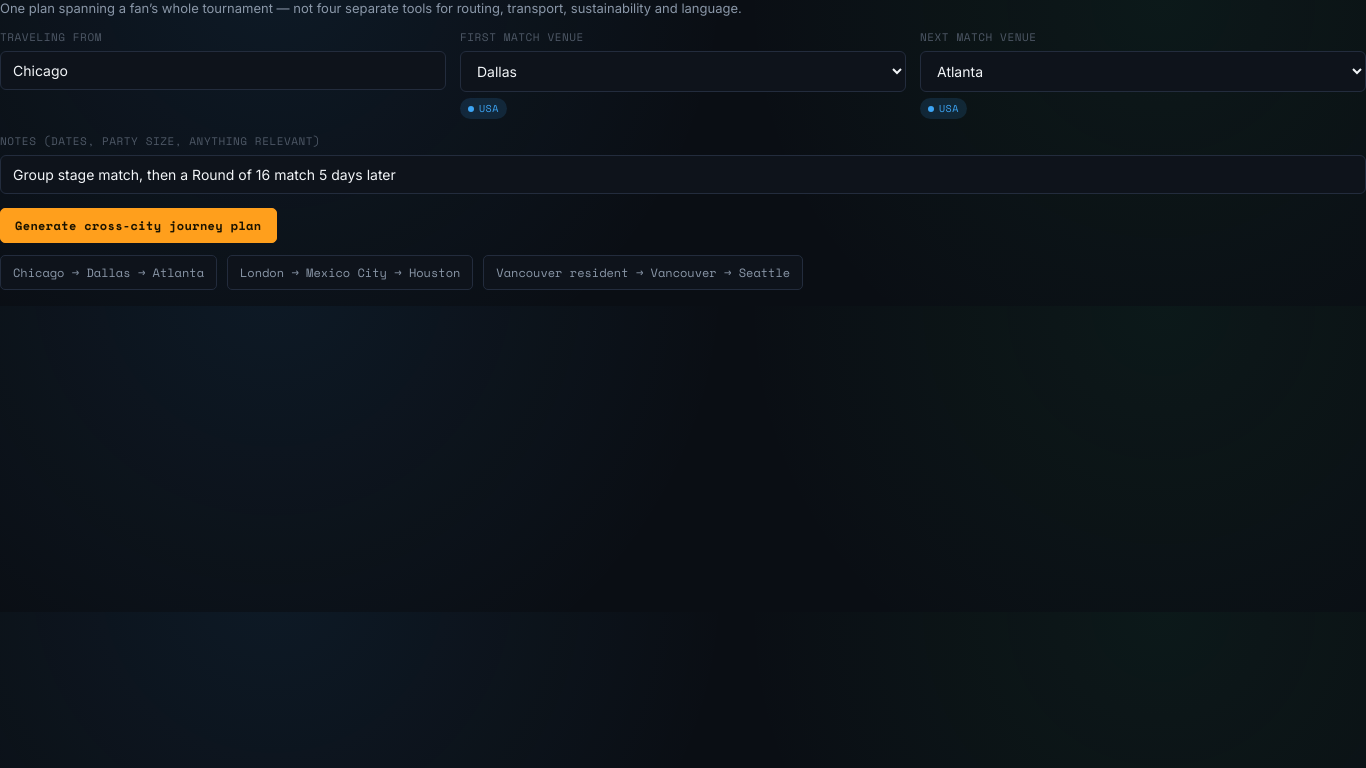
Test case: JourneyConcierge › fills the form and runs a plan when a starter preset is clicked
The width and height of the screenshot is (1366, 768).
What coordinates should you click on to do the following:
click the button "Vancouver resident → Vancouver → Seattle"
I would click on:
 (643, 272)
Its box is [483, 255, 803, 290].
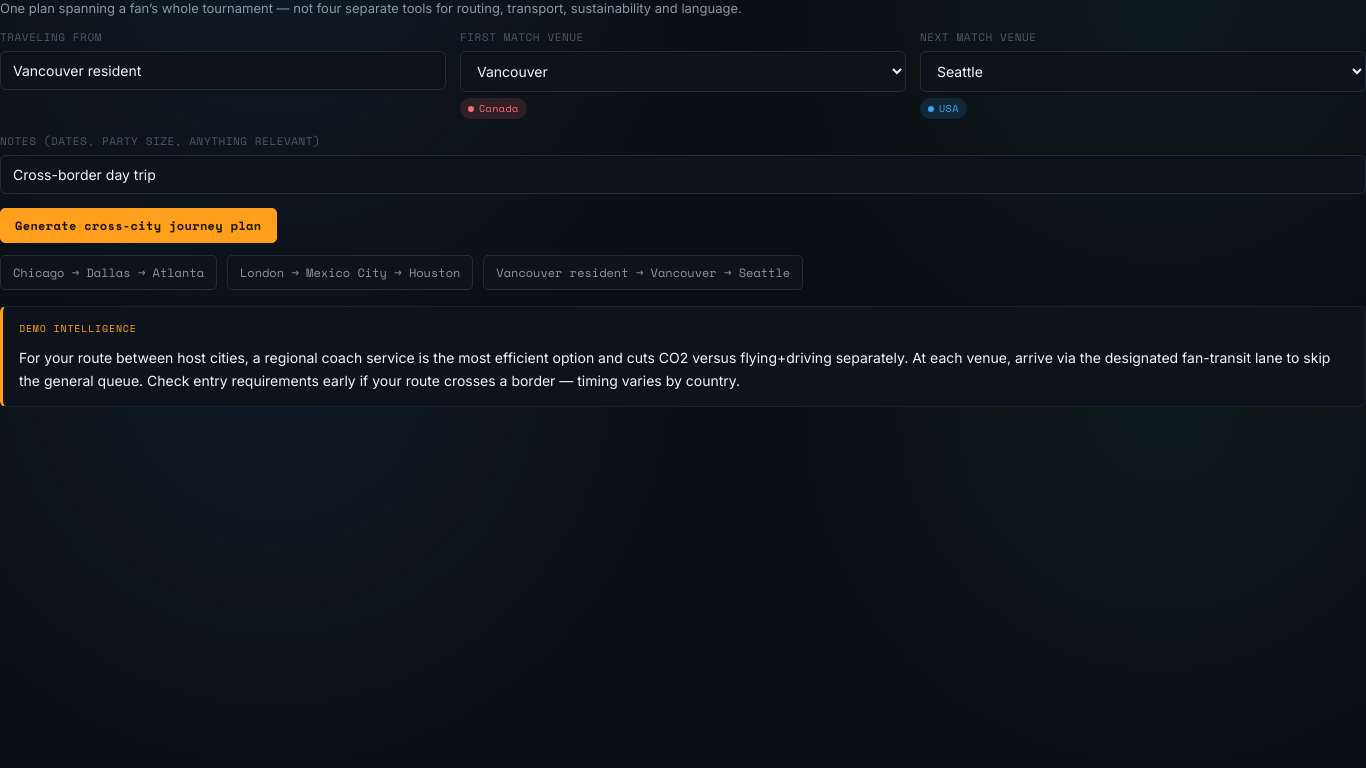
Check: the field labelled "Traveling from" holds "Vancouver resident", box [0, 51, 446, 90]
Check: the text "Demo intelligence" is shown, box [19, 321, 137, 336]
